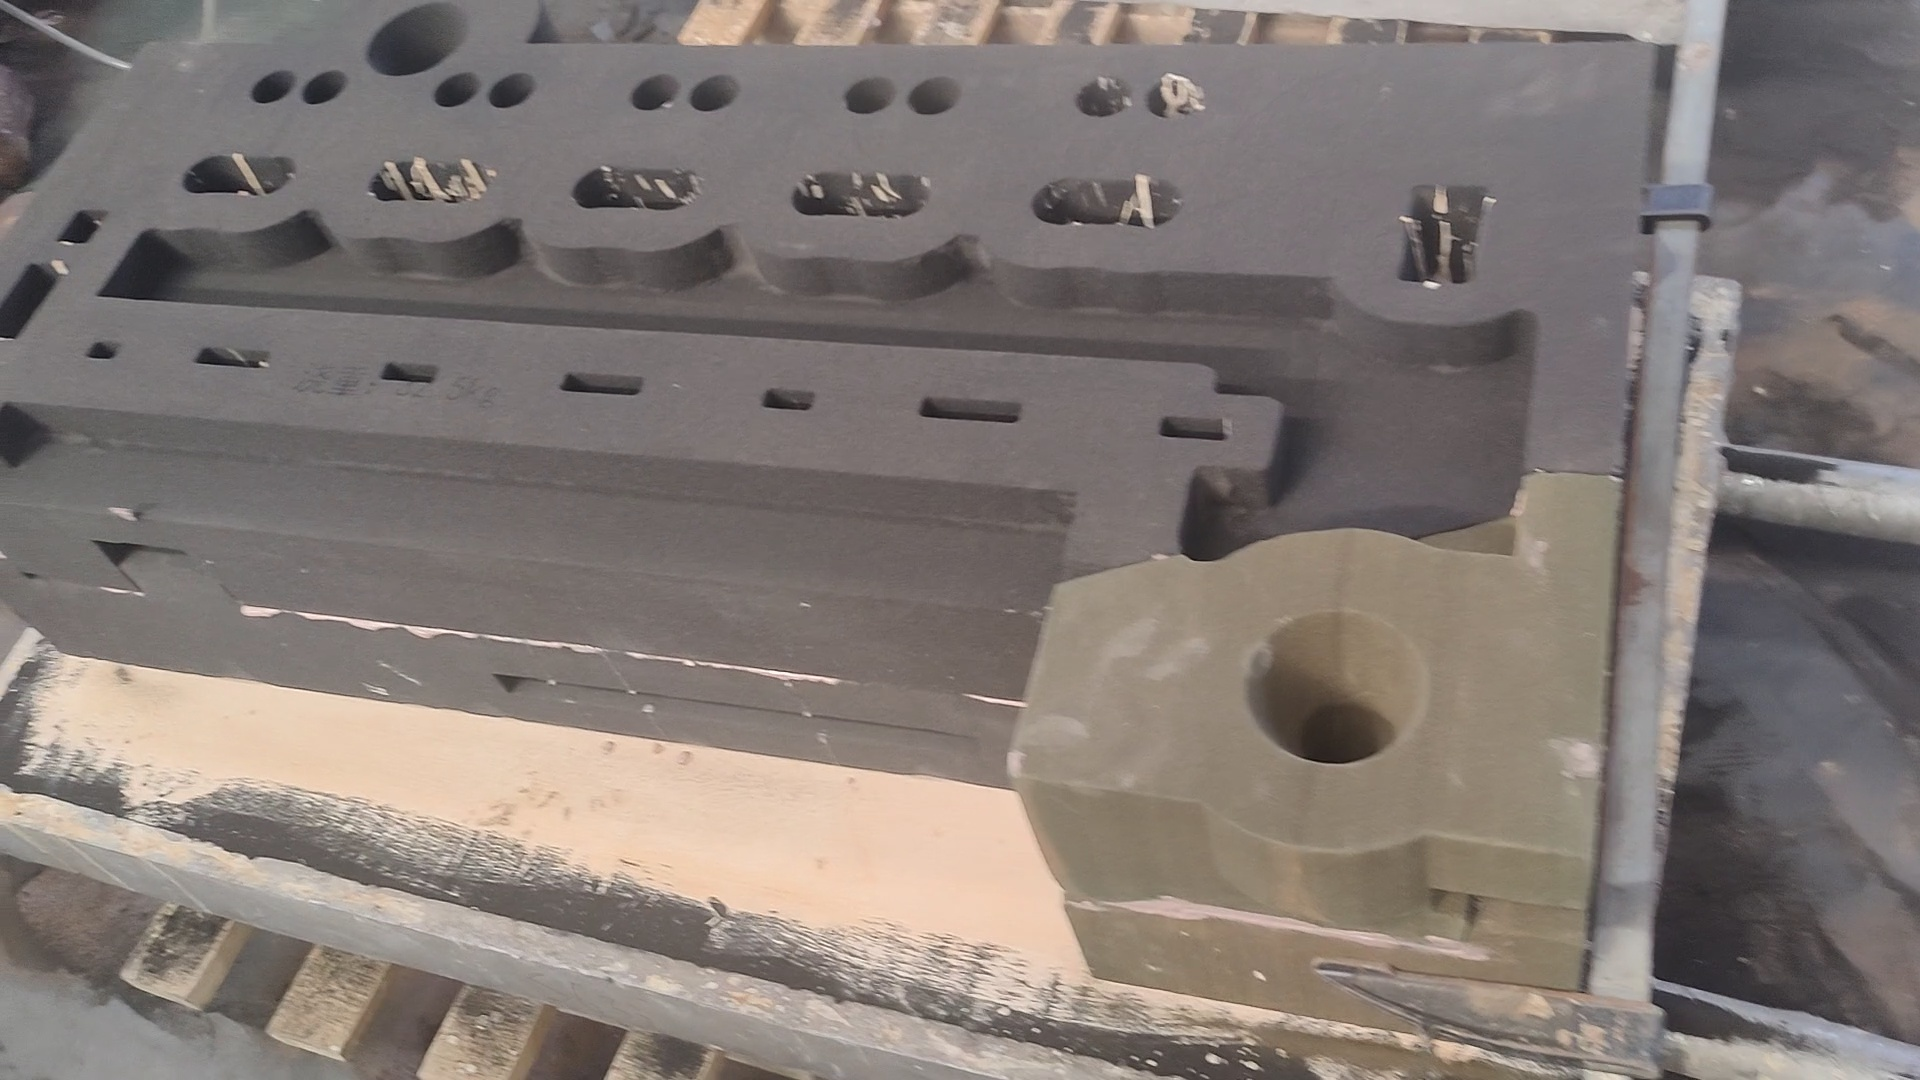pouring hole: (1237, 603, 1432, 766), (363, 1, 469, 75)
